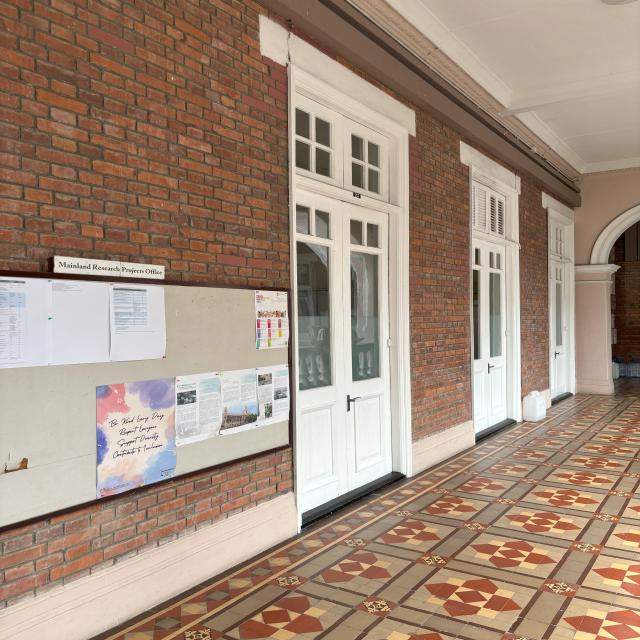MB202_roomNum: (351, 190, 362, 201)
